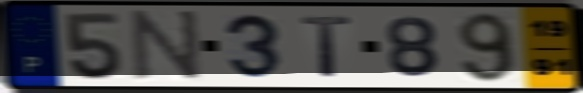3: (219, 12, 289, 81)
5: (61, 10, 125, 82)
8: (384, 15, 443, 80)
9: (453, 10, 519, 85)
N: (131, 8, 203, 85)
T: (298, 14, 356, 80)
